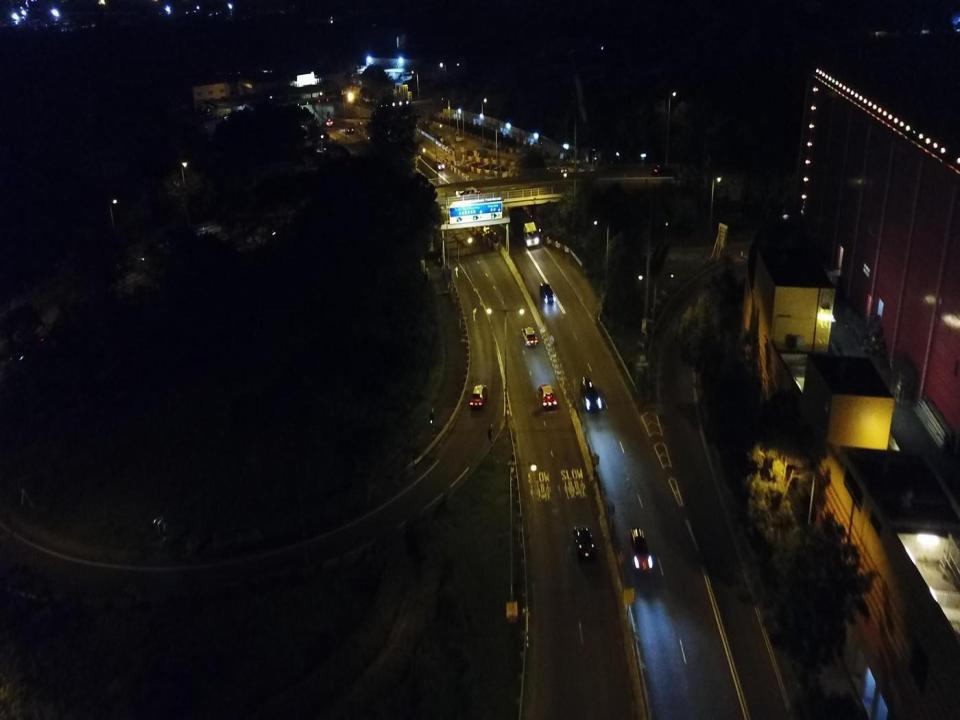car: (630, 526, 653, 574), (574, 522, 597, 562), (10, 334, 42, 361), (537, 381, 560, 410), (582, 376, 600, 412), (470, 381, 487, 411), (653, 164, 680, 178), (522, 324, 537, 348), (539, 282, 555, 304), (455, 187, 483, 197), (434, 160, 445, 170), (325, 117, 333, 127), (346, 127, 353, 134)
truck: (506, 204, 540, 246)
